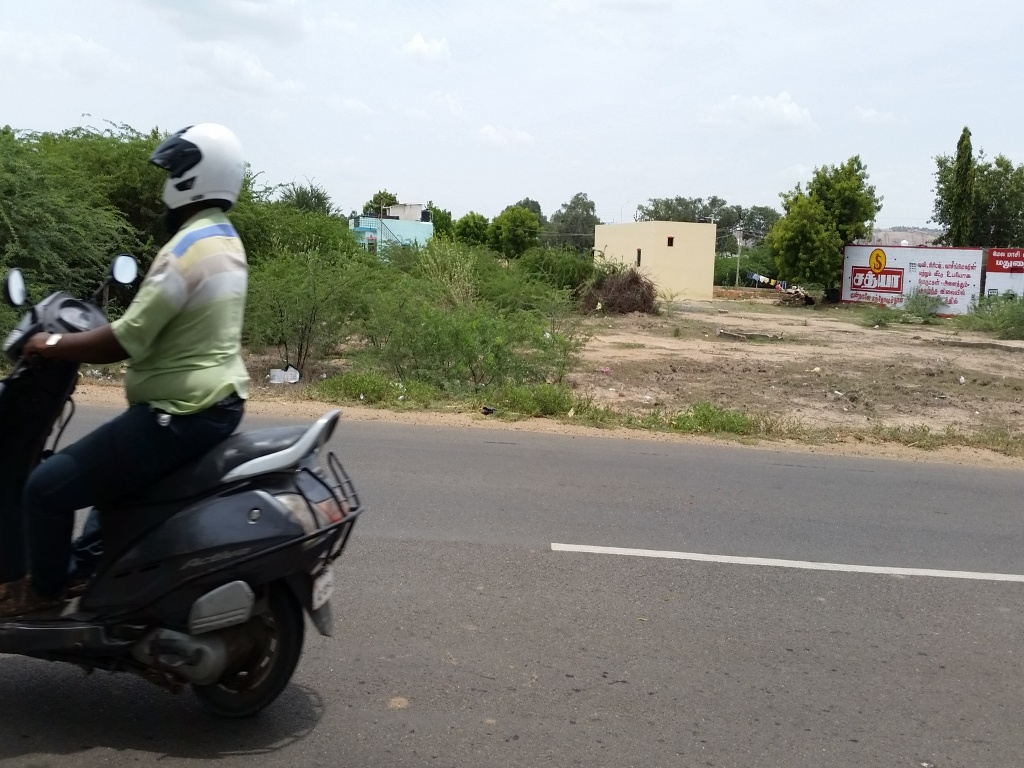biker: (1, 61, 397, 737)
helmet: (136, 103, 263, 243)
